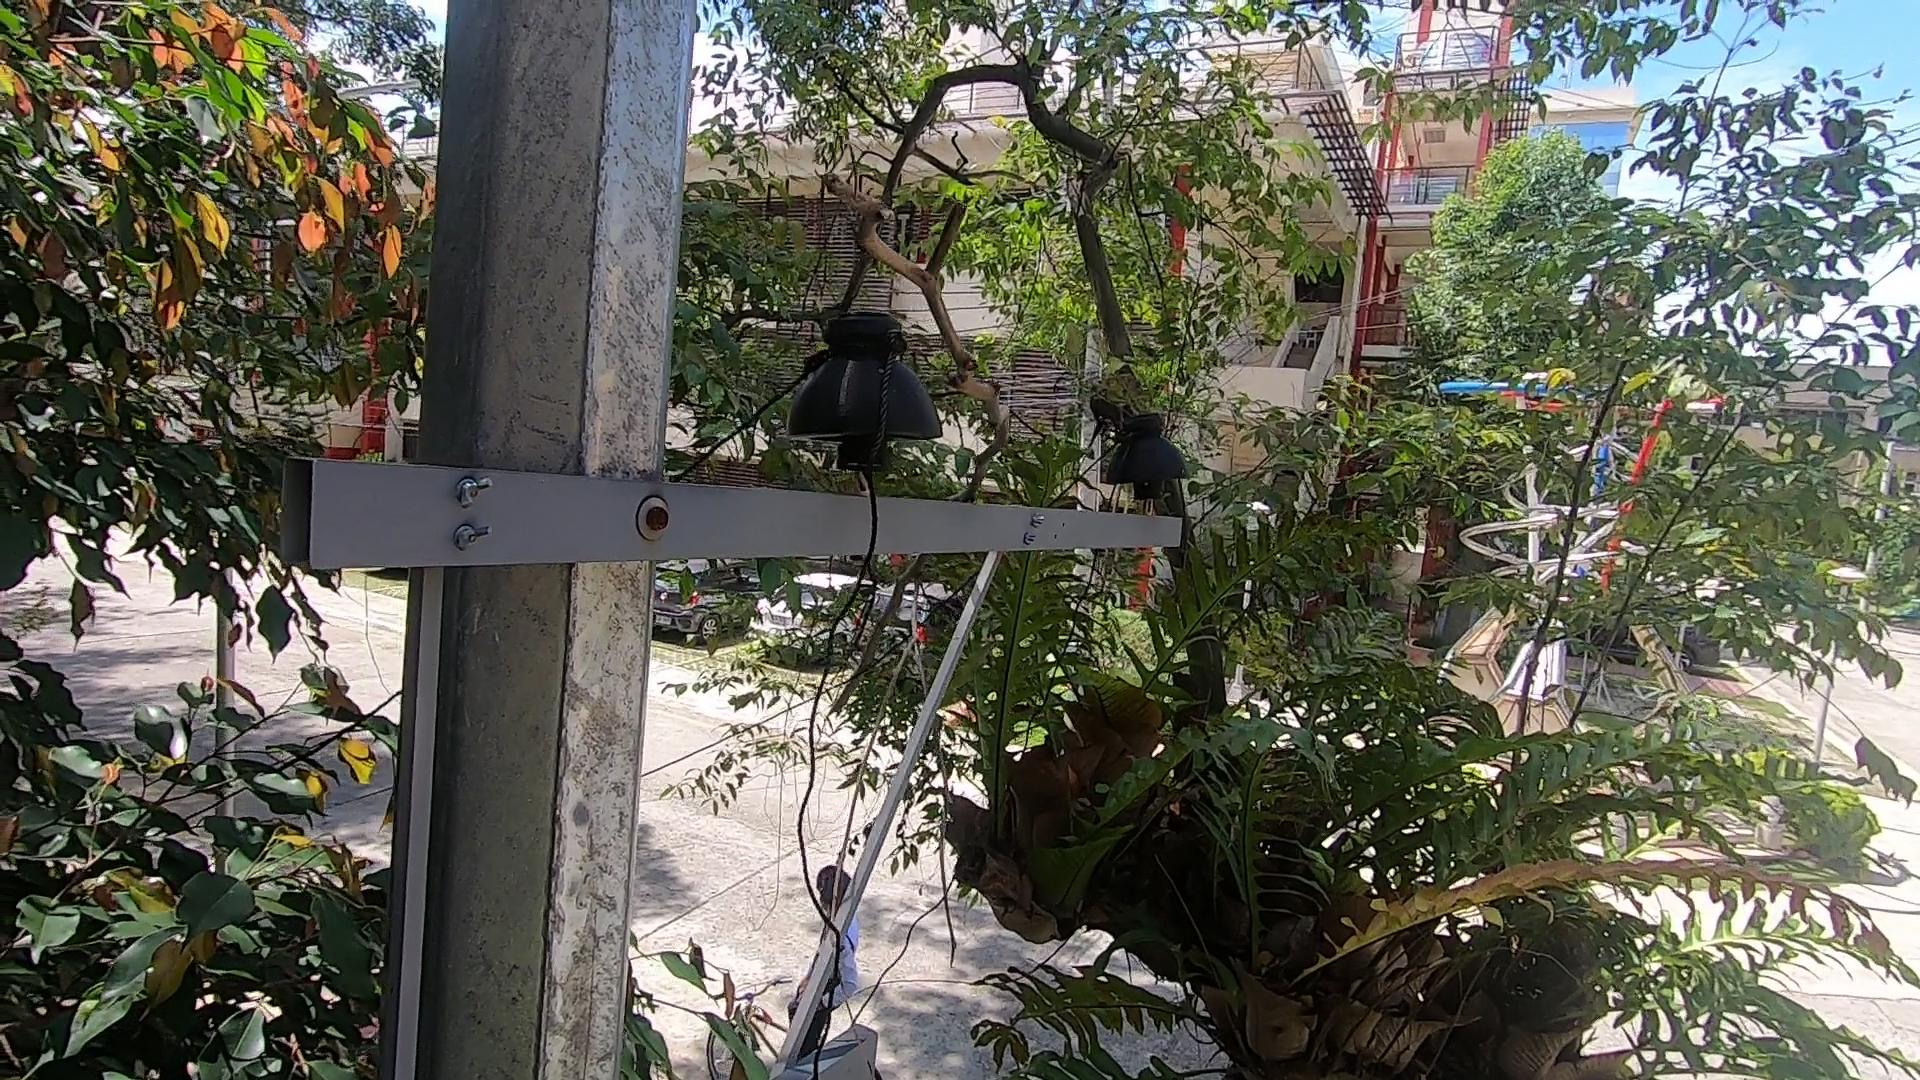tree branch: (810, 161, 1091, 891)
